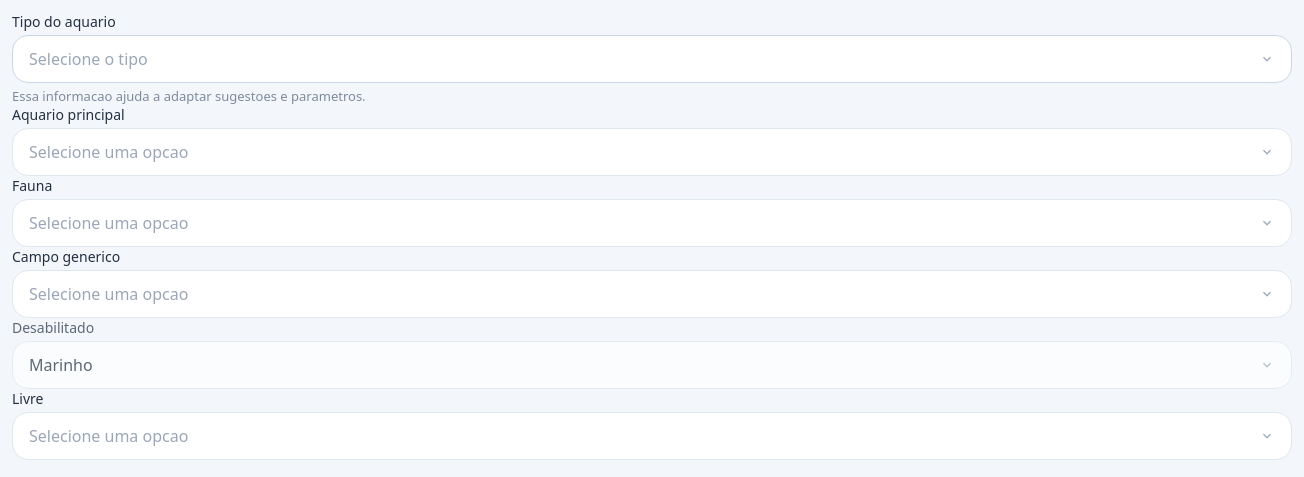
SelectFormfieldComponent › should close the dropdown after selecting an option in single mode
This screenshot has width=1304, height=477.
What coordinates should you click on to do the following:
click the dropdown with class "select-formfield__trigger" showing "Selecione o tipo"
I would click on:
 (88, 59)
Its box is [12, 35, 1292, 83].
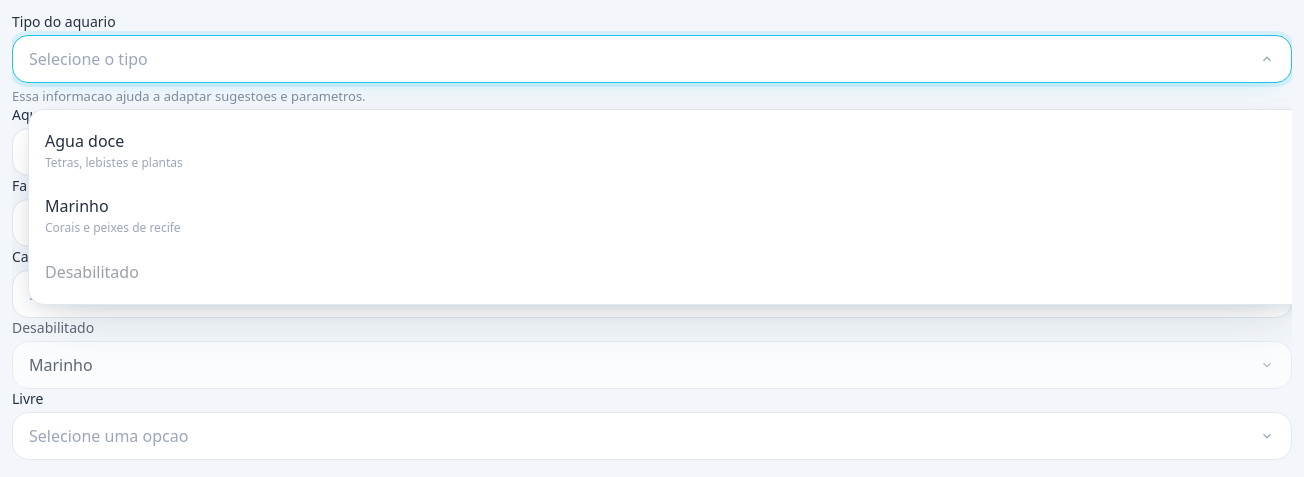
What coordinates should you click on to do the following:
click the option with class "select-formfield__option" that starts with "Agua doce"
I would click on:
 (114, 151)
Its box is [45, 130, 183, 171].
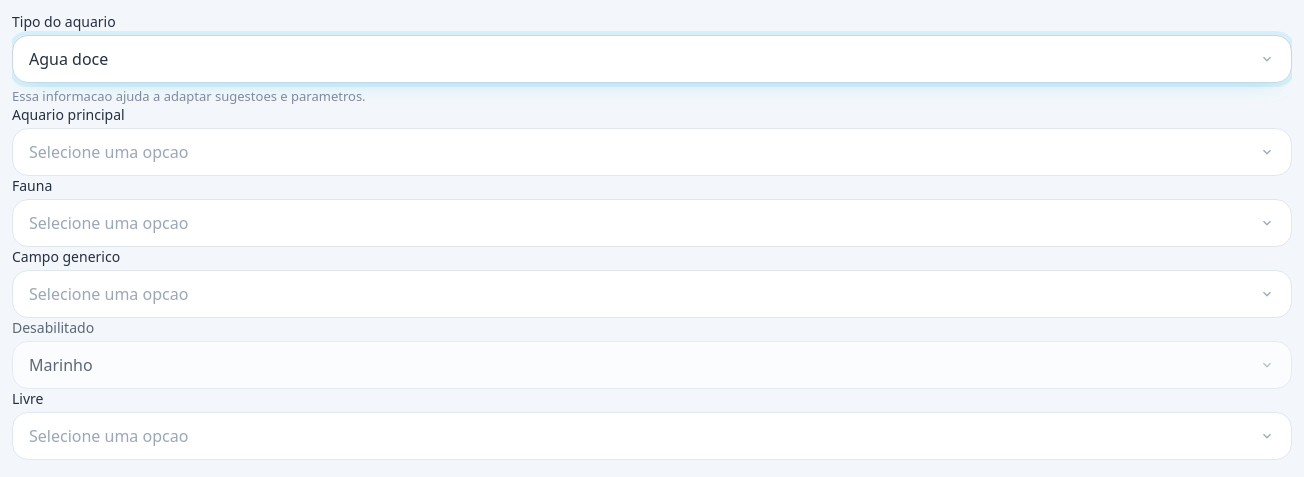
Check: the list with class "select-formfield__dropdown" is gone
